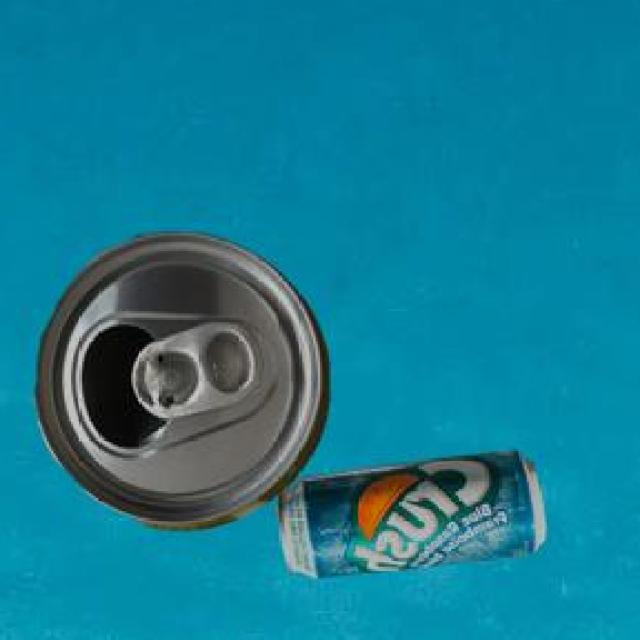logam: (37, 230, 332, 526), (279, 448, 548, 574)
